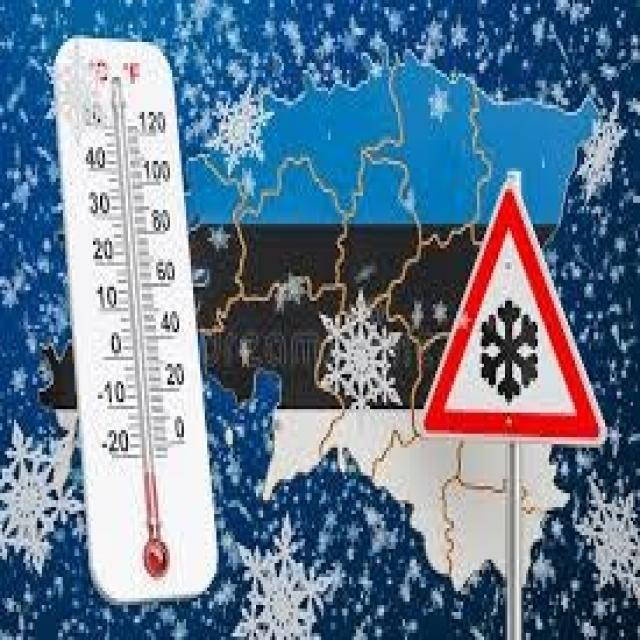snow_warning: (417, 170, 612, 464)
